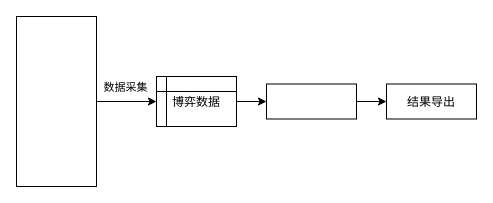
This 493x203 diagram has some shape labels left out. Here are the shapes that lost their labels. From the top down, the box of each, then its label:
(16, 16, 96, 186): 博弈场景
(266, 83, 356, 119): 数据处理
